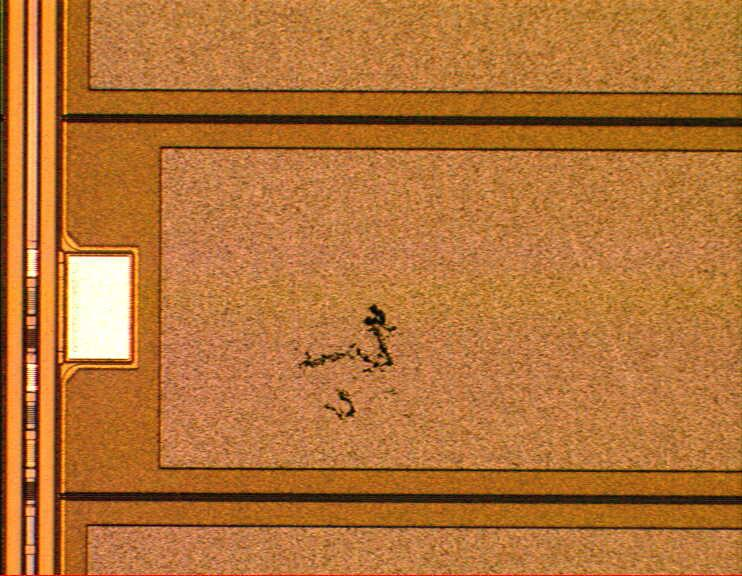SCRATCH: (278, 294, 416, 432)
